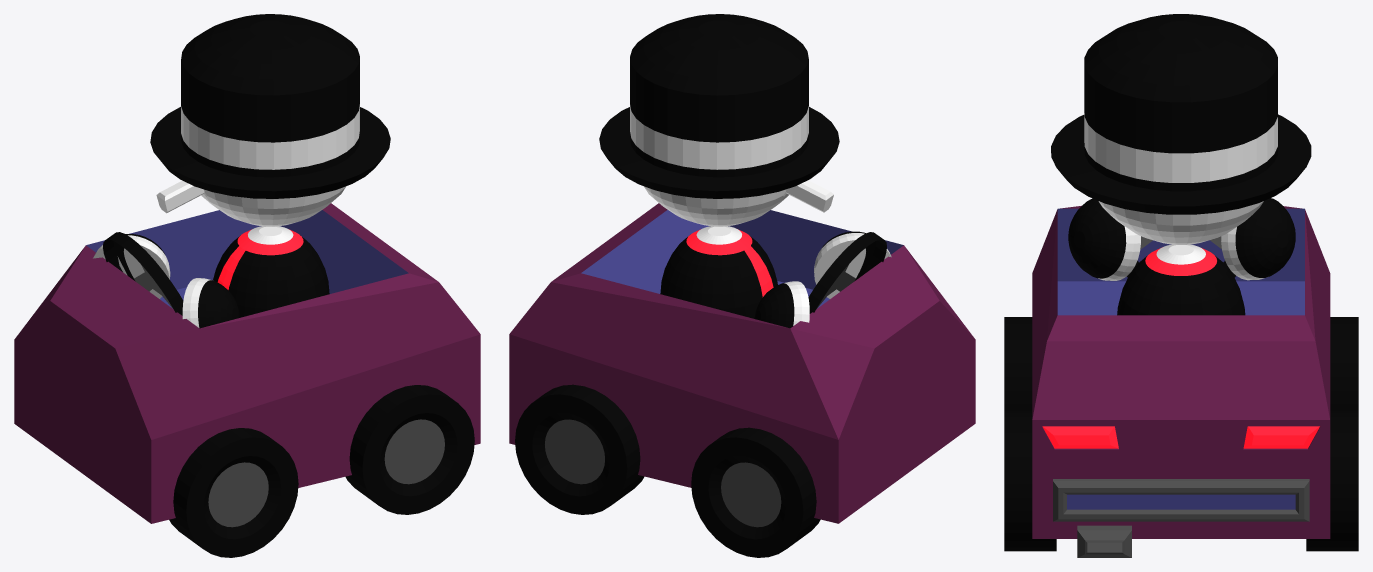
File: theguyincar.fbx
3 renders of one model, left to right at view 1: azimuth 30°, elevation 25°; view 2: azimuth 150°, elevation 25°; view 3: azimuth 270°, elevation 25°, orthographic. The views are drawn at different scales.
Visible parts, largest first — view 1: hiscar, head, fatbelly, hand2, hand1; view 2: hiscar, head, fatbelly, hand1, hand2; view 3: hiscar, head, fatbelly, hand1, hand2.
Boxes of the visible parts, x1=… form: hiscar: x1=14, y1=203, x2=480, y2=557; head: x1=150, y1=14, x2=390, y2=226; fatbelly: x1=213, y1=226, x2=329, y2=317; hand2: x1=182, y1=278, x2=239, y2=328; hand1: x1=93, y1=234, x2=170, y2=298; hiscar: x1=509, y1=203, x2=975, y2=557; head: x1=599, y1=14, x2=839, y2=226; fatbelly: x1=660, y1=226, x2=777, y2=318; hand1: x1=754, y1=281, x2=809, y2=328; hand2: x1=814, y1=231, x2=891, y2=298; hiscar: x1=1004, y1=205, x2=1358, y2=557; head: x1=1051, y1=14, x2=1311, y2=244; fatbelly: x1=1117, y1=244, x2=1245, y2=315; hand1: x1=1221, y1=197, x2=1295, y2=280; hand2: x1=1068, y1=198, x2=1140, y2=280.
Bounding box in the file's own units: 251 × 306 × 374.
